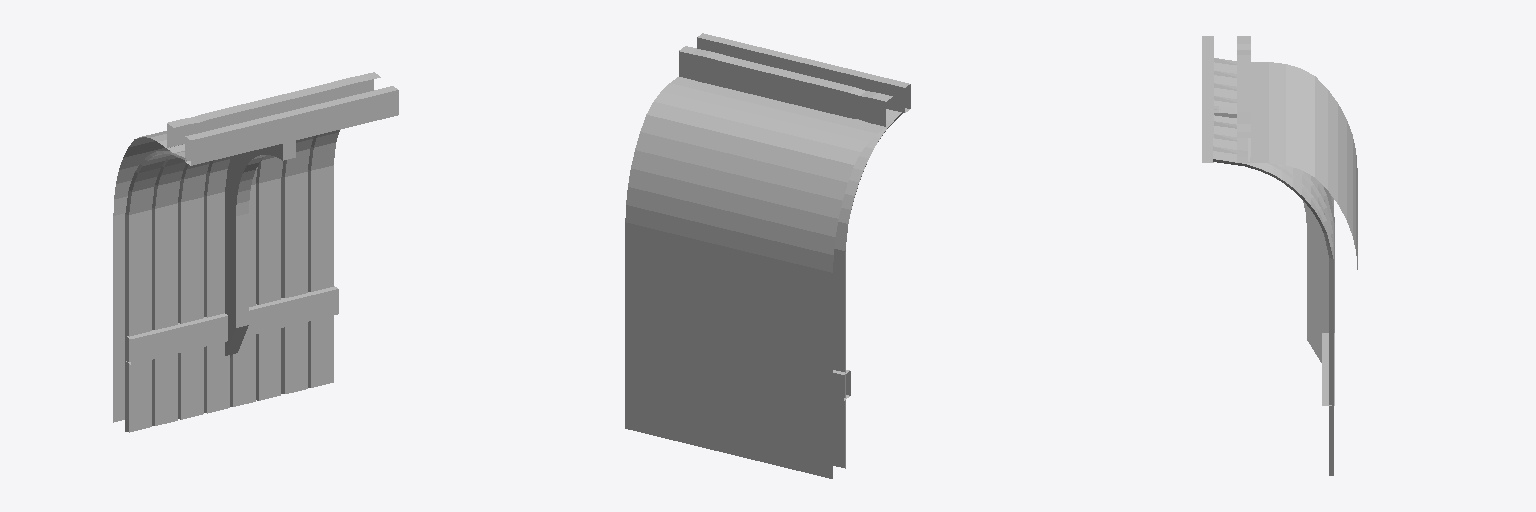
The model's file is Overhang_WoodWear_Short.obj.
The picture shows the model from 3 angles: view 1: azimuth 30°, elevation 25°; view 2: azimuth 150°, elevation 25°; view 3: azimuth 270°, elevation 25°; orthographic projection.
Visible parts, largest first — view 1: Overhang_WoodWear_Short; view 2: Overhang_WoodWear_Short; view 3: Overhang_WoodWear_Short.
Boxes of the visible parts, x1=… form: Overhang_WoodWear_Short: x1=113, y1=72, x2=398, y2=432; Overhang_WoodWear_Short: x1=625, y1=33, x2=910, y2=478; Overhang_WoodWear_Short: x1=1202, y1=36, x2=1357, y2=475.
Bounding box in the file's own units: 2 × 3.12 × 1.29.